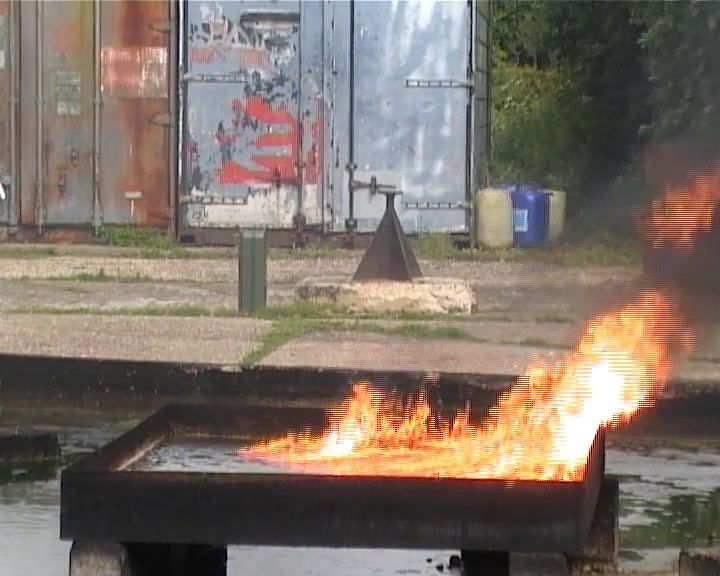fire: (277, 306, 667, 472)
